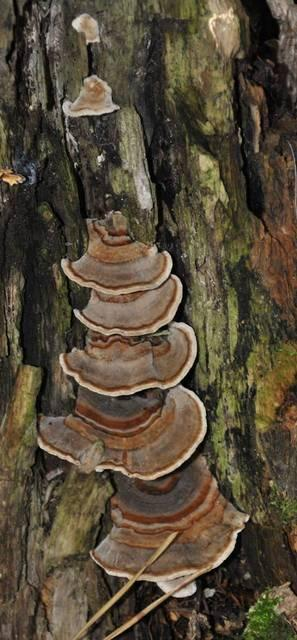poisonous_mushroom: (35, 208, 250, 597), (61, 73, 120, 118), (70, 12, 101, 46)
